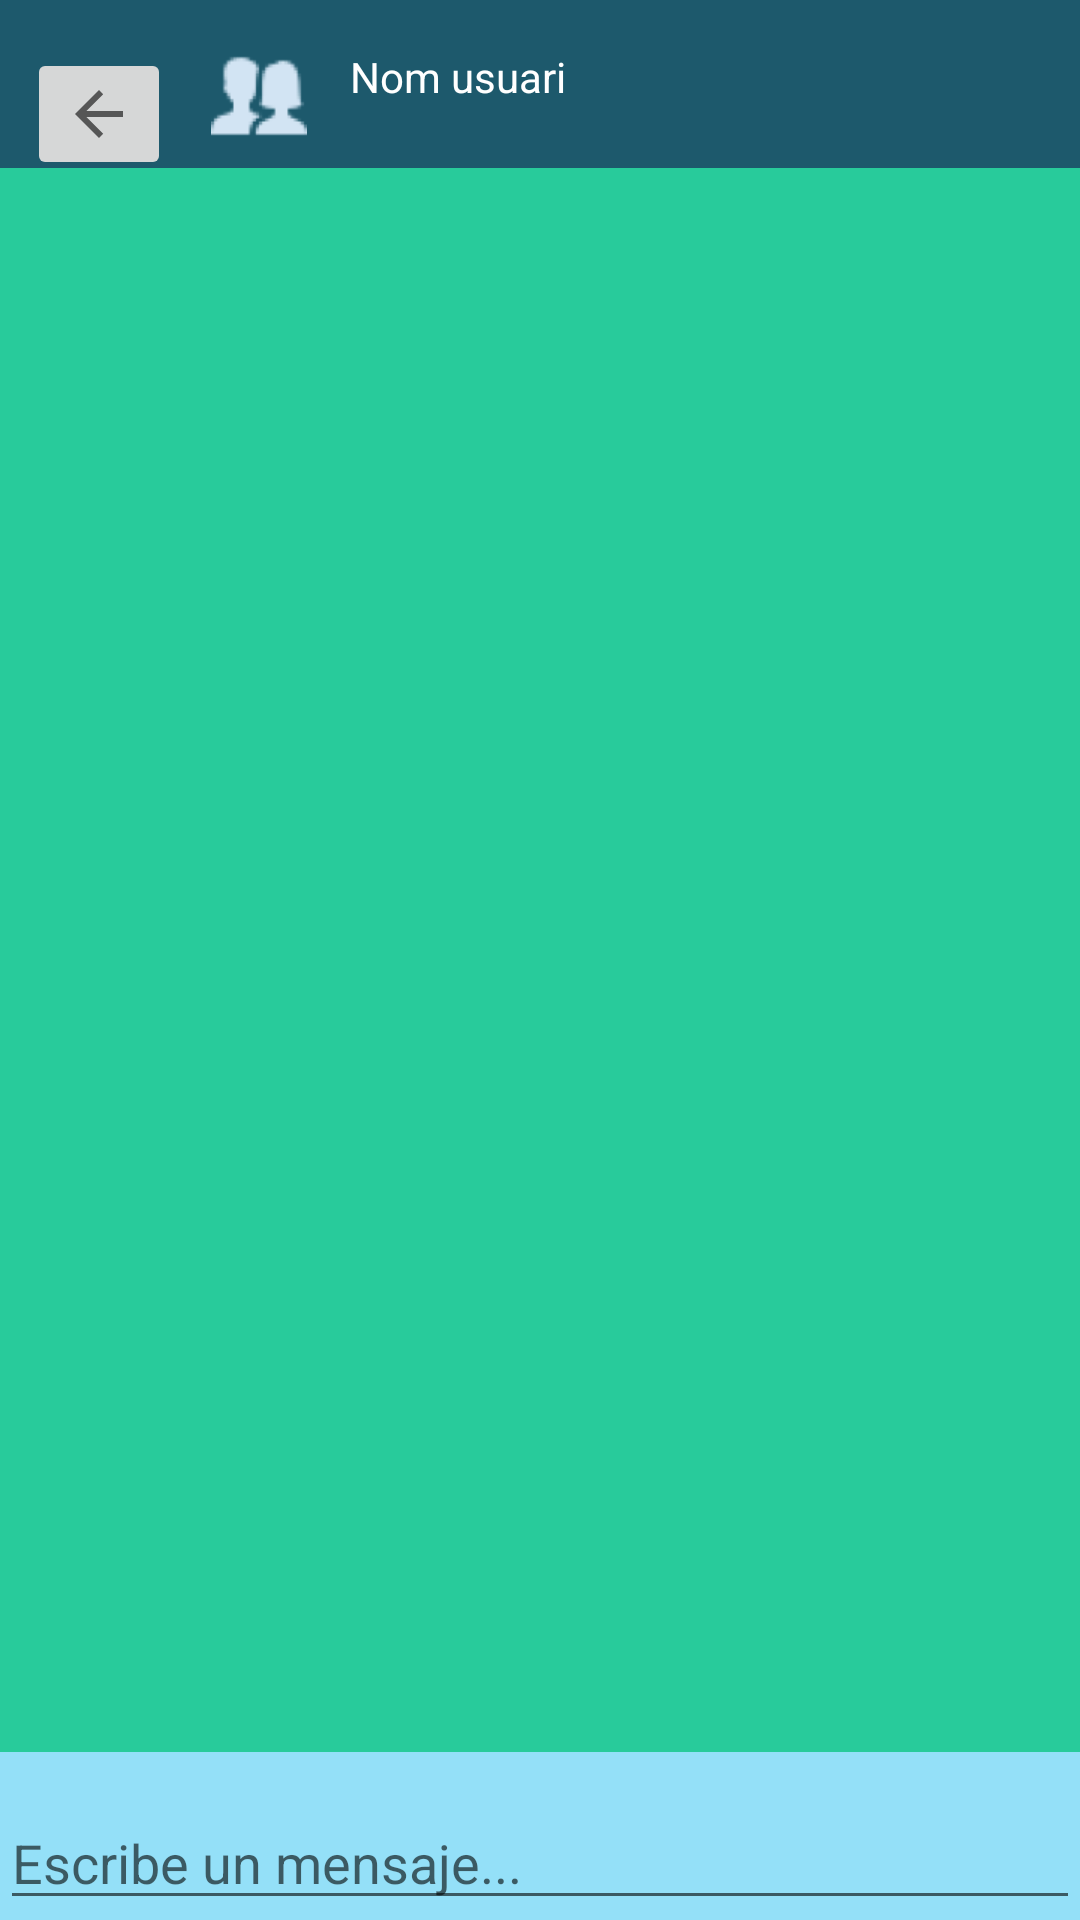

Icon click points for this 1080w x 1920h phone screenshot, format point (x, y):
persones: point (259, 96)
